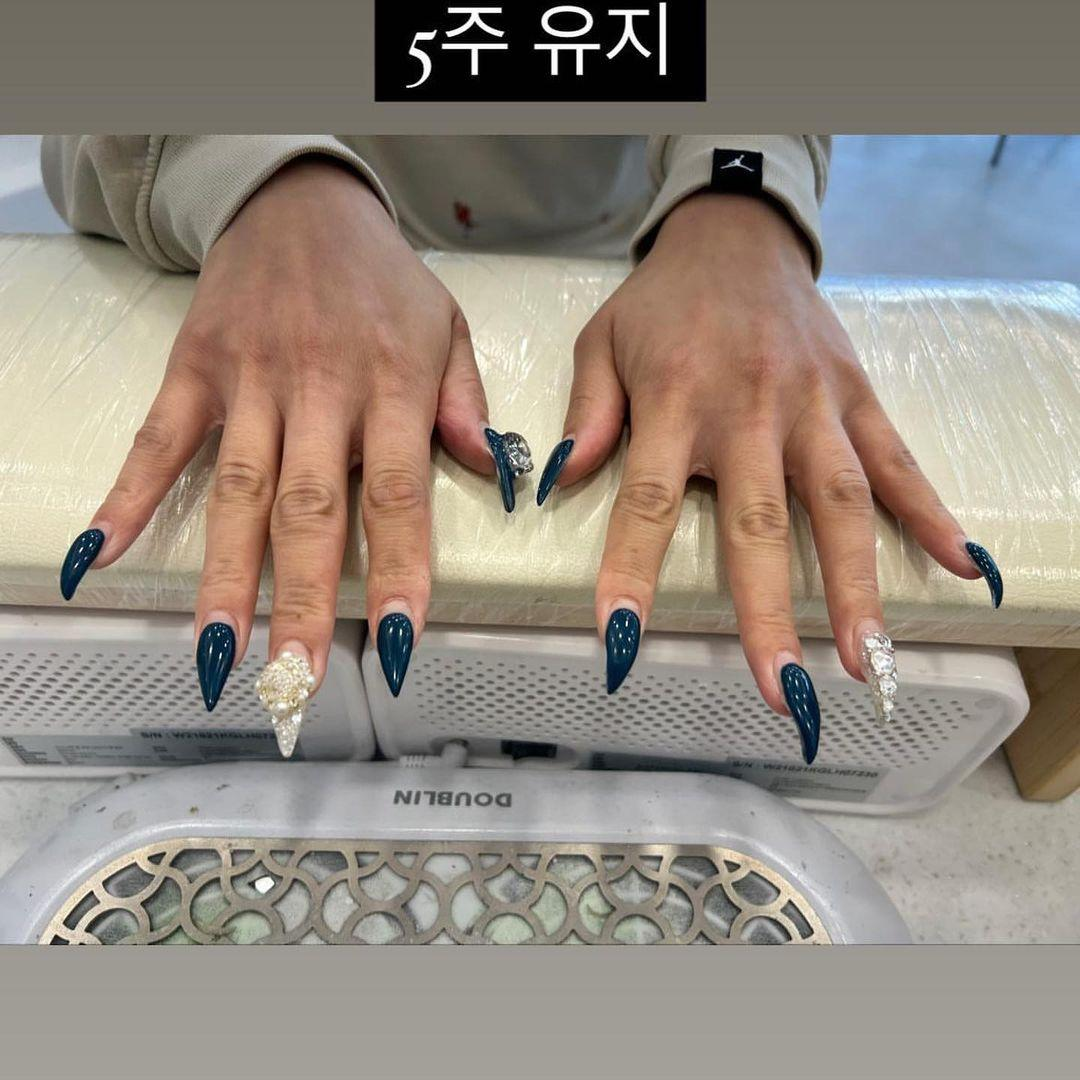nail: (778, 662, 820, 764), (195, 619, 237, 711), (59, 527, 104, 600), (603, 606, 640, 694), (375, 612, 413, 696), (962, 540, 1003, 608), (535, 435, 574, 506)
